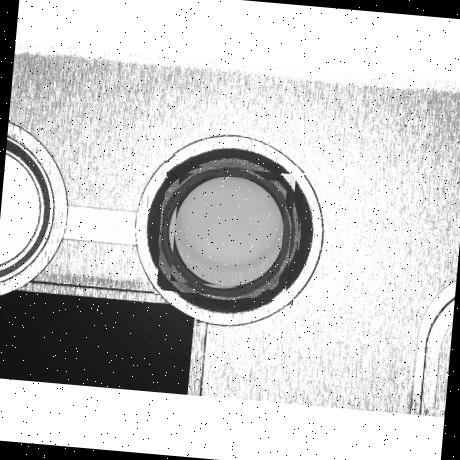Hole: (140, 142, 320, 320)
Hole2: (154, 154, 306, 306)
Hole3: (156, 162, 298, 301)
Hole4: (170, 172, 288, 290)
